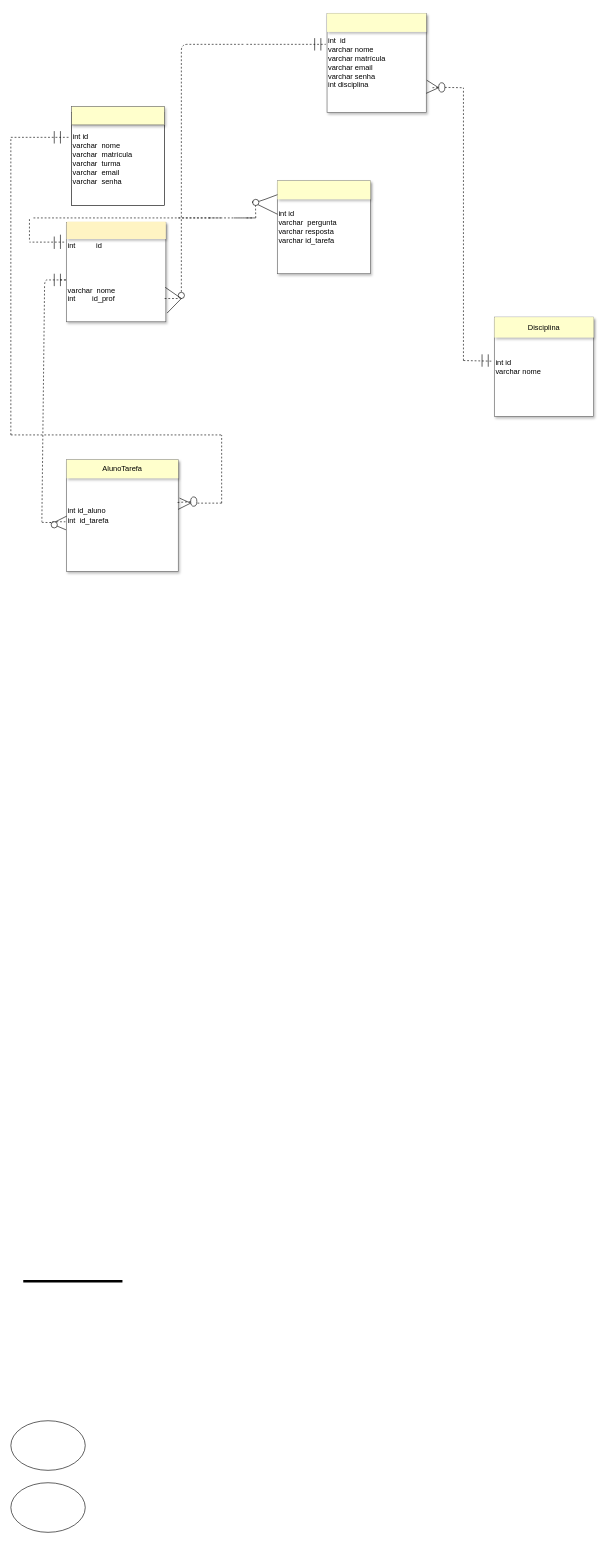
Some shapes in this 608 by 1543 pixel diagram are drawn without their labels. Here are the shapes that lost their labels. From the top down, the centre of each, then its label:
the point at 377,23: Professor
the point at 118,116: aluno
the point at 324,190: Questão
the point at 116,231: Tarefa
